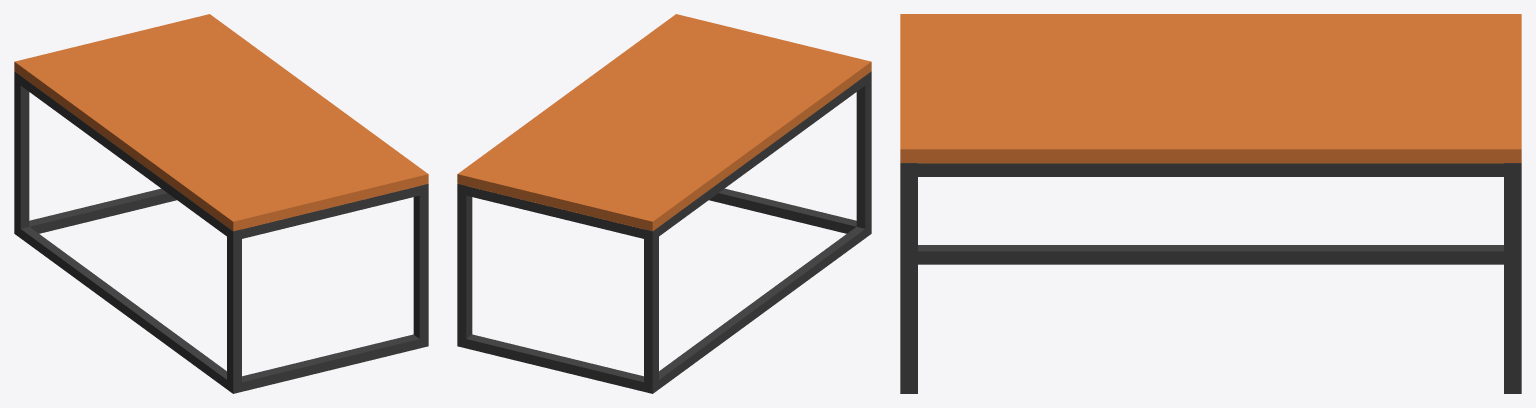
Rendered from table.gltf.
3 views of the same model, side by side, from view 1: azimuth 30°, elevation 25°; view 2: azimuth 150°, elevation 25°; view 3: azimuth 270°, elevation 25° (orthographic). The views are drawn at different scales.
Visible parts, largest first — view 1: Cube007_1, Cube007; view 2: Cube007_1, Cube007; view 3: Cube007_1, Cube007.
Boxes of the visible parts, box(x1,y1,x2,y2) form: Cube007_1: box(14, 14, 428, 231); Cube007: box(14, 71, 428, 393); Cube007_1: box(457, 14, 871, 231); Cube007: box(457, 71, 871, 393); Cube007_1: box(900, 14, 1521, 163); Cube007: box(900, 163, 1521, 393).
Size of the model in its own units: 1.23 by 1.04 by 2.39.
